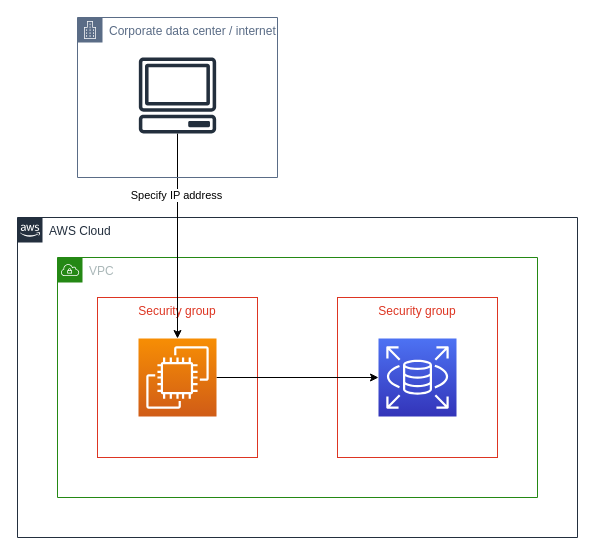
The diagram is 595 pixels wide and 555 high, and some of its shapes have lost their labels. The shapes that lost their labels are listed below. From the top down, each one's centre as x and y in pixels, then its label:
pixel 177 95: Administrator
pixel 177 377: pgAdmin on EC2
pixel 417 377: Postgre RDS
